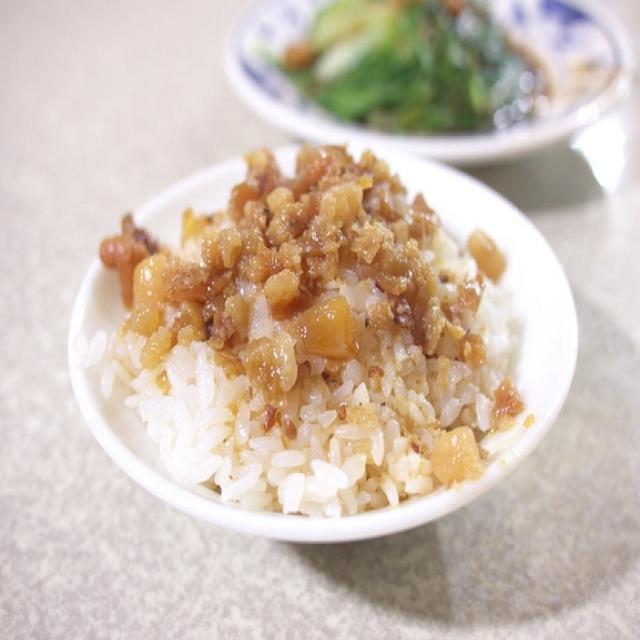猪肉菜式: (83, 124, 558, 541)
